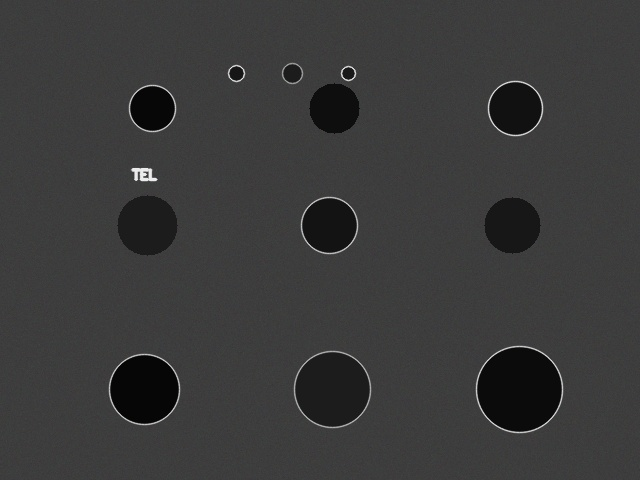hole: (476, 346, 562, 432), (294, 351, 370, 427), (109, 354, 179, 424), (117, 195, 177, 255), (301, 197, 357, 253), (484, 197, 540, 253), (488, 81, 542, 135), (309, 83, 359, 133), (129, 85, 175, 131), (282, 63, 302, 83), (228, 65, 244, 81), (341, 66, 355, 80)
